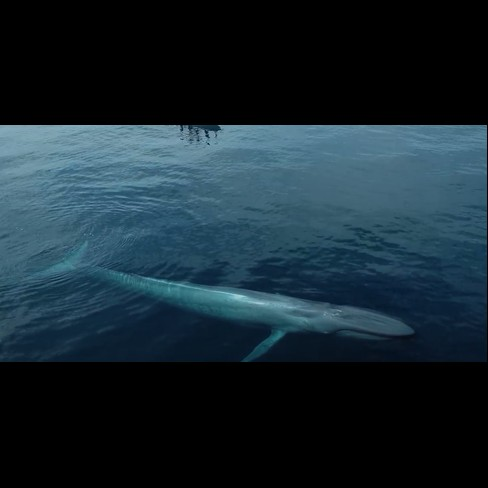bluewhale: (19, 237, 420, 361)
